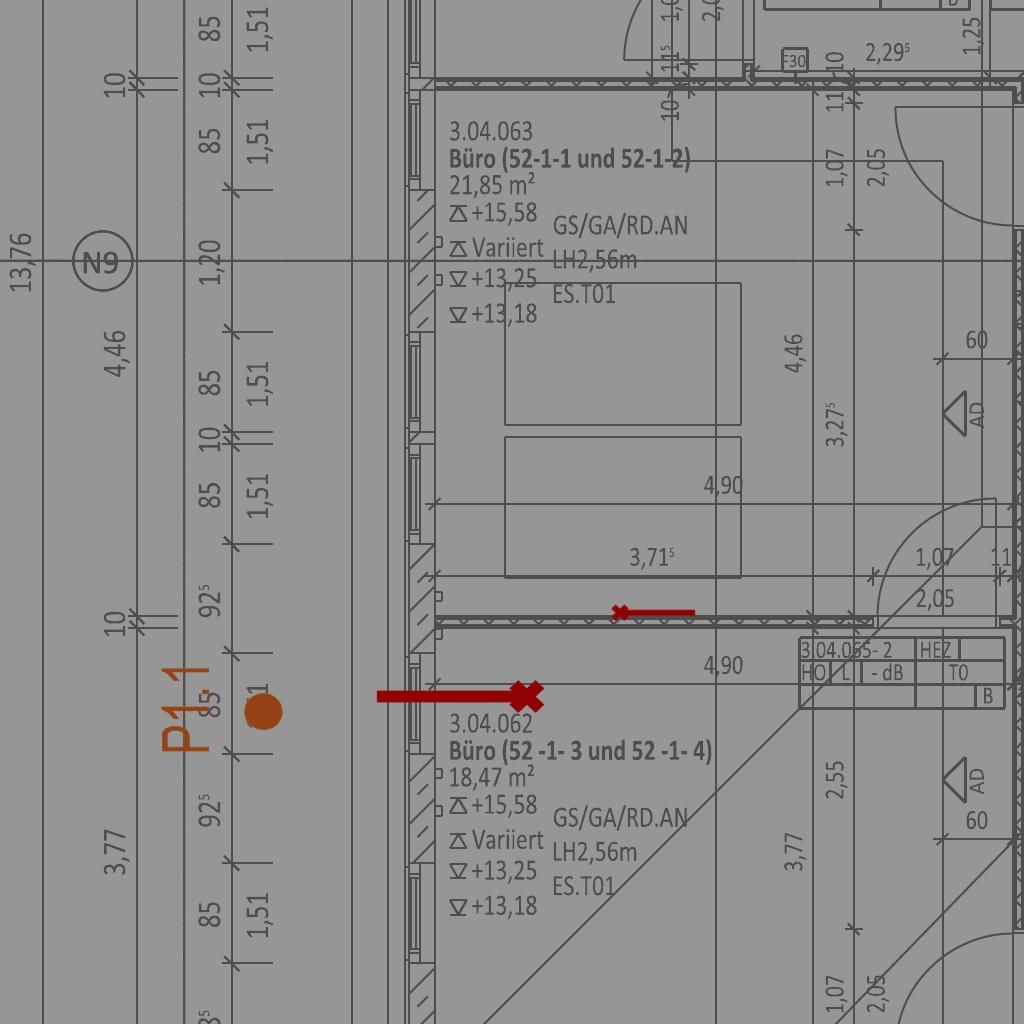ASR_Ansaugoeffnung: (371, 676, 547, 722), (610, 600, 698, 623)
Downlight_LED_Einbauleuchten_Flur: (158, 662, 286, 755)
